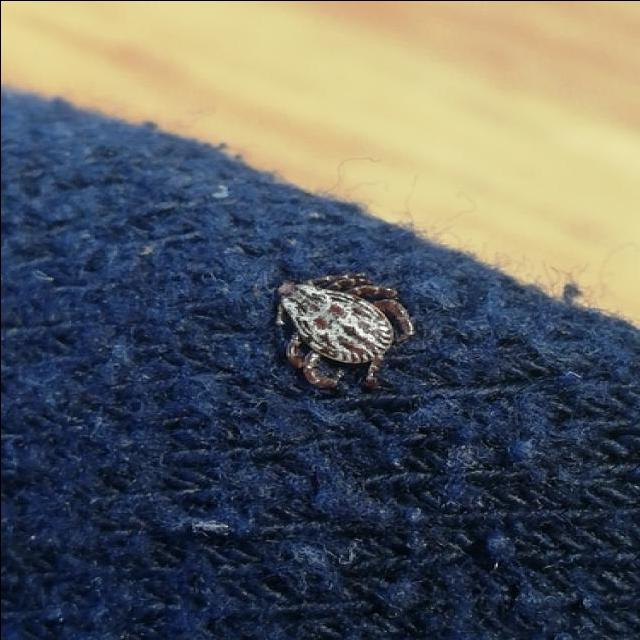Dermacentor Reticulatus-M: (275, 274, 413, 390)
